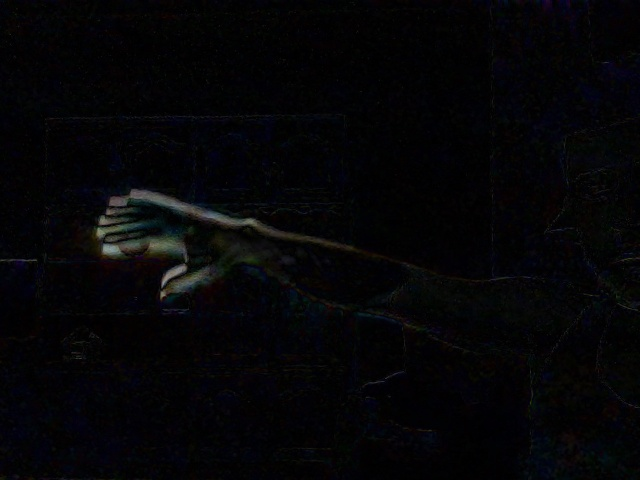hand_pa: (88, 180, 248, 305)
